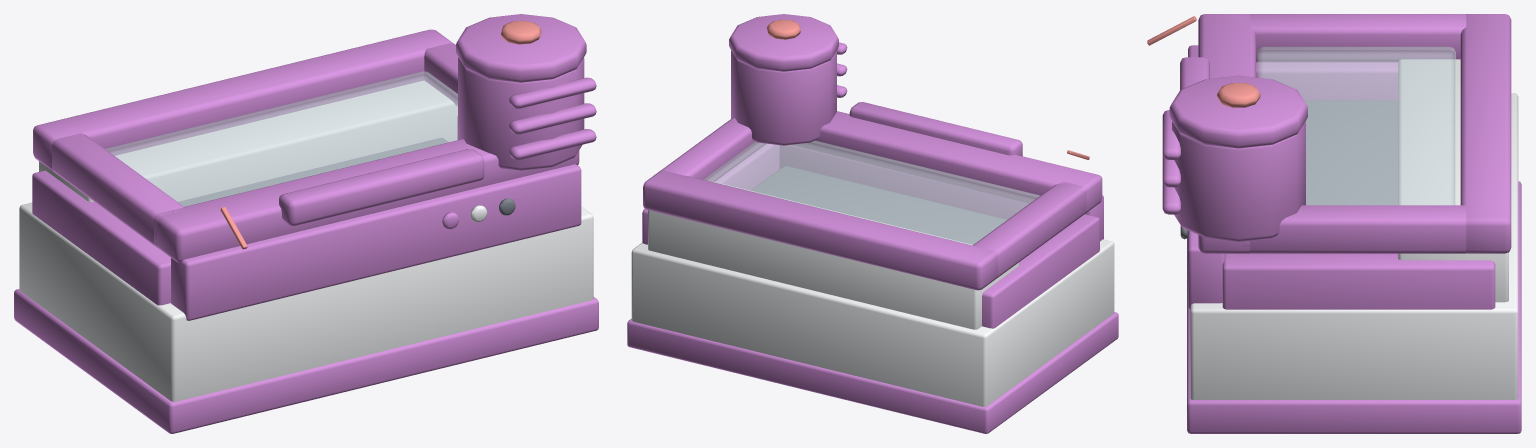
The model's file is VacuumSealer.glb.
3 views of the same model, side by side, from view 1: azimuth 30°, elevation 25°; view 2: azimuth 150°, elevation 25°; view 3: azimuth 270°, elevation 25° (orthographic). The views are drawn at different scales.
Parts seen in each view (by area): view 1: shell, lid, pump; view 2: shell, lid, pump; view 3: shell, lid, pump.
Boxes of the visible parts, left/top/right/bottom form: shell: left=14, top=80, right=598, bottom=433; lid: left=33, top=29, right=579, bottom=262; pump: left=456, top=14, right=596, bottom=170; shell: left=627, top=144, right=1118, bottom=433; lid: left=643, top=102, right=1102, bottom=290; pump: left=729, top=14, right=847, bottom=145; shell: left=1180, top=45, right=1521, bottom=433; lid: left=1180, top=14, right=1511, bottom=253; pump: left=1162, top=75, right=1307, bottom=241.
Size of the model in its own units: 2.29 by 1.52 by 1.62.
